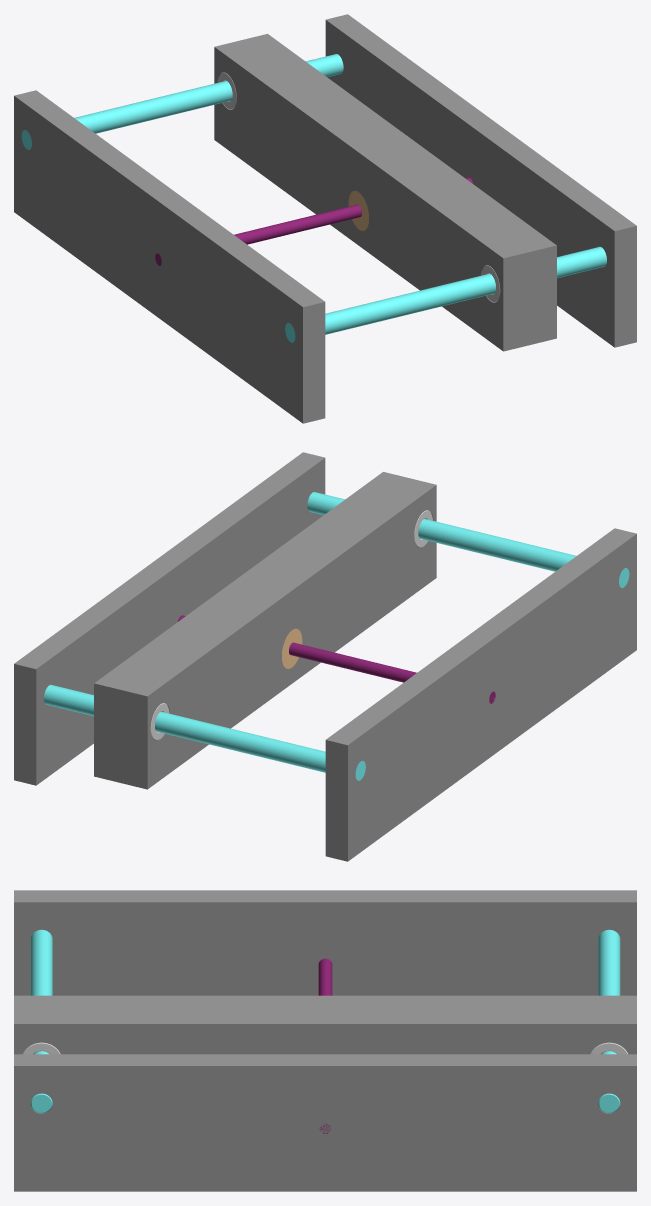
3 views of the same model, one above another, from view 1: azimuth 30°, elevation 25°; view 2: azimuth 150°, elevation 25°; view 3: azimuth 270°, elevation 25° (orthographic). The views are drawn at different scales.
Visible parts, largest first — view 1: out-carriage-block, out-drive_end-block, out-idle_end-block, out-rails-rail_0001, out-rails-rail_0000, out-drive-drive; view 2: out-carriage-block, out-drive_end-block, out-idle_end-block, out-rails-rail_0000, out-rails-rail_0001, out-drive-drive; view 3: out-idle_end-block, out-drive_end-block, out-carriage-block, out-rails-rail_0000, out-rails-rail_0001, out-drive-drive.
Boxes of the visible parts, <box> form: out-carriage-block: <box>214,34,556,351</box>; out-drive_end-block: <box>14,90,325,423</box>; out-idle_end-block: <box>325,14,636,347</box>; out-rails-rail_0001: <box>285,246,606,342</box>; out-rails-rail_0000: <box>21,54,343,149</box>; out-drive-drive: <box>155,177,472,265</box>; out-carriage-block: <box>94,472,436,789</box>; out-drive_end-block: <box>325,528,636,861</box>; out-idle_end-block: <box>14,452,325,785</box>; out-rails-rail_0000: <box>44,684,365,780</box>; out-rails-rail_0001: <box>307,492,629,587</box>; out-drive-drive: <box>178,615,495,703</box>; out-idle_end-block: <box>14,1054,636,1191</box>; out-drive_end-block: <box>14,890,636,995</box>; out-carriage-block: <box>14,995,636,1054</box>; out-rails-rail_0000: <box>598,929,620,1113</box>; out-rails-rail_0001: <box>30,929,52,1113</box>; out-drive-drive: <box>318,958,332,1133</box>.
Bounding box in the file's own units: 0.15 × 0.05 × 0.225.
